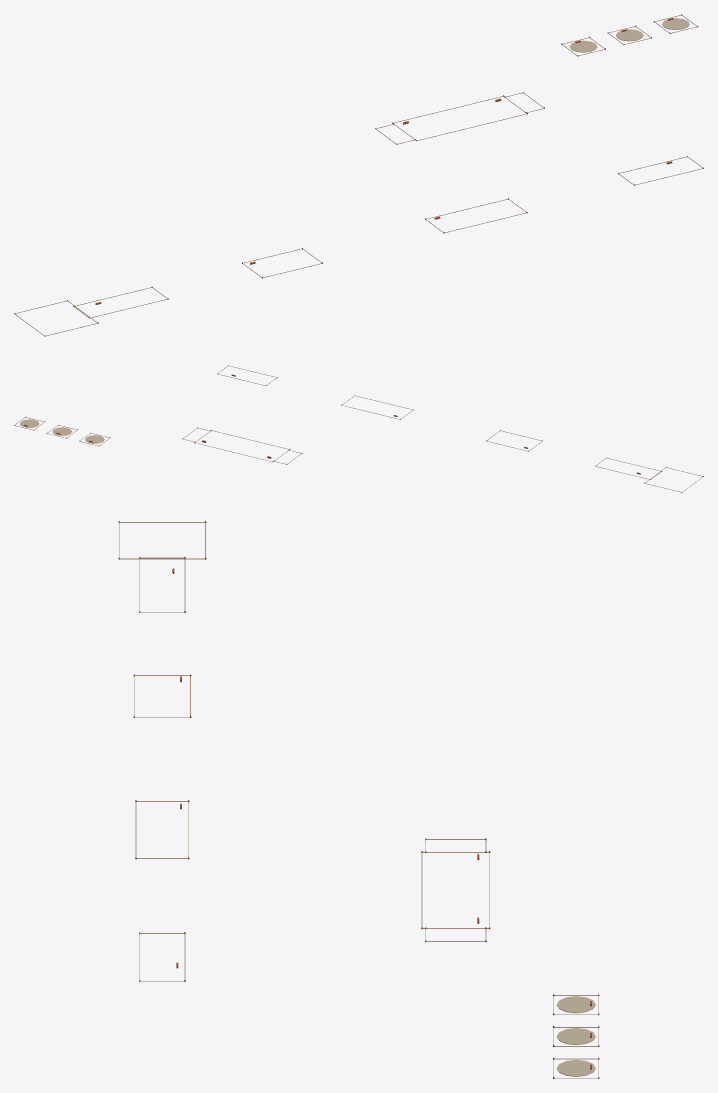
3 renders of one model, top to bottom at view 1: azimuth 30°, elevation 25°; view 2: azimuth 150°, elevation 25°; view 3: azimuth 270°, elevation 25°, orthographic. The views are drawn at different scales.
Visible parts, largest first — view 1: chem_K0; view 2: chem_K0; view 3: chem_K0.
Part boxes in pixels (left/top/right/bottom): chem_K0: left=14, top=14, right=703, bottom=336; chem_K0: left=14, top=365, right=703, bottom=492; chem_K0: left=118, top=521, right=599, bottom=1078.
Bounding box in the file's own units: 350 × 1.08 × 128.
